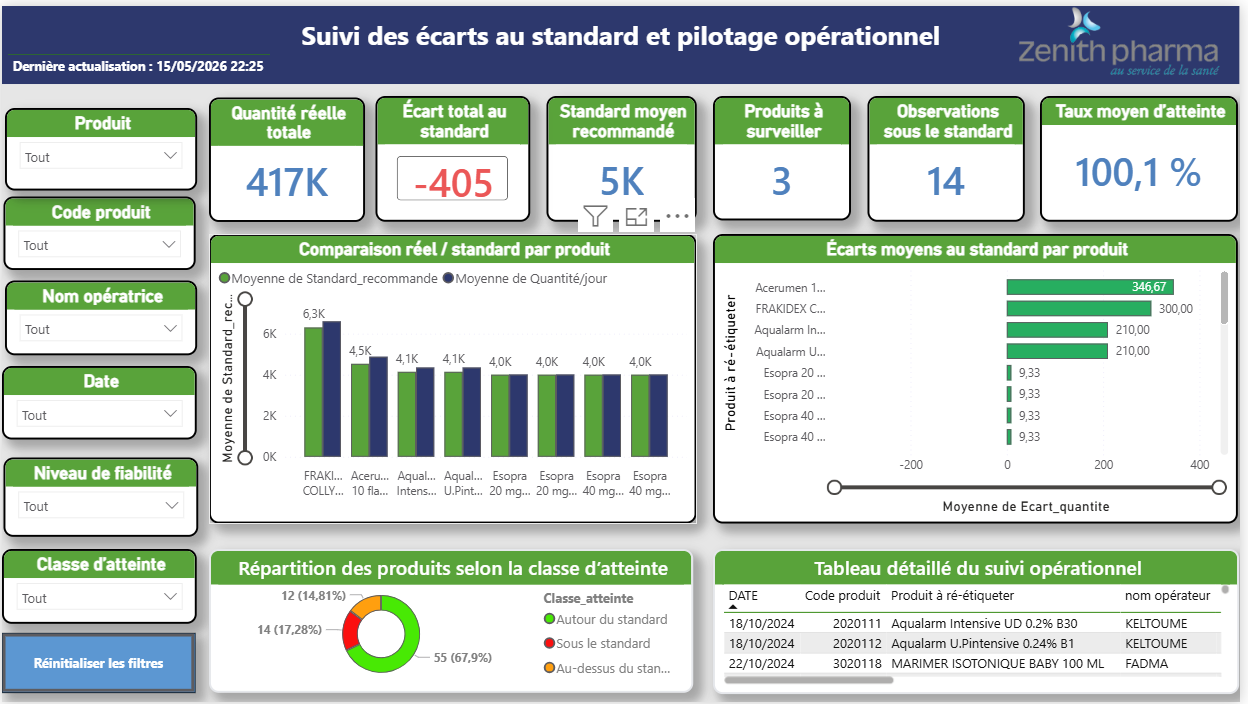

What the dashboard file says about the page in this screenshot:
{"tool":"powerbi","page":{"name":"Dashboard de pilotage global du service","canvas":[1280,720],"ordinal":3},"visuals":[{"type":"textbox","box":[0,0,1279.5,80.6],"z":0},{"type":"image","box":[1029.8,0,249.7,76],"z":1000},{"type":"cardVisual","title":"Standard moyen recommandé","fields":{"Data":["Base_enrichie.Standard_Moyen"]},"box":[563,93.1,155.1,130.3],"z":2000},{"type":"cardVisual","title":"Taux moyen d’atteinte","fields":{"Data":["Base_enrichie.Taux_Moyen_Atteinte_Pct"]},"box":[1073.2,93.1,204.7,130.3],"z":3000},{"type":"cardVisual","title":"Produits à surveiller","fields":{"Data":["Base_enrichie.Produits_A_Surveiller"]},"box":[735.1,93.1,142.7,128.7],"z":4000},{"type":"slicer","title":"Code produit","fields":{"Values":["Base_enrichie.Code produit"]},"box":[1.6,197,198.5,76],"z":5000},{"type":"slicer","title":"Produit","fields":{"Values":["Base_enrichie.Produit à ré-étiqueter"]},"box":[3.1,105.5,198.5,85.3],"z":6000},{"type":"slicer","title":"Nom opératrice","fields":{"Values":["Base_enrichie.nom opérateur"]},"box":[3.1,283.8,198.5,77.5],"z":7000},{"type":"slicer","title":"Date","fields":{"Values":["Base_enrichie.DATE"]},"box":[0,372.2,201.6,76],"z":8000},{"type":"slicer","title":"Niveau de fiabilité","fields":{"Values":["Base_enrichie.Niveau_fiabilite"]},"box":[1.6,466.8,201.6,82.2],"z":9000},{"type":"slicer","title":"Classe d’atteinte","fields":{"Values":["Base_enrichie.Classe_atteinte"]},"box":[0,561.4,201.6,77.5],"z":10000},{"type":"actionButton","box":[0,648.3,200.1,62],"z":11000},{"type":"cardVisual","title":"Quantité réelle totale","fields":{"Data":["Base_enrichie.Quantite_Reelle_Totale"]},"box":[214,94.6,161.3,128.7],"z":12000},{"type":"cardVisual","title":"Écart total au standard","fields":{"Data":["Base_enrichie.Ecart_Total"]},"box":[386.2,93.1,159.7,130.3],"z":13000},{"type":"cardVisual","title":"Observations sous le standard","fields":{"Data":["Base_enrichie.Obs_Sous_Standard"]},"box":[894.9,93.1,162.8,130.3],"z":14000},{"type":"clusteredColumnChart","title":"Comparaison réel / standard par produit","fields":{"Category":["Base_enrichie.Produit à ré-étiqueter"],"Y":["Avg(Base_enrichie.Standard_recommande)","Avg(Base_enrichie.Quantité/jour)"]},"box":[214,235.7,504,299.3],"z":15000},{"type":"clusteredBarChart","title":"Écarts moyens au standard par produit","fields":{"Category":["Base_enrichie.Produit à ré-étiqueter"],"Y":["Avg(Base_enrichie.Ecart_quantite)"]},"box":[735.1,235.7,542.8,299.3],"z":16000},{"type":"donutChart","title":"Répartition des produits selon la classe d’atteinte","fields":{"Category":["Base_enrichie.Classe_atteinte"],"Y":["CountNonNull(Base_enrichie.Code produit)"]},"box":[214,561.4,500.9,148.9],"z":17000},{"type":"tableEx","title":"Tableau détaillé du suivi opérationnel","fields":{"Values":["Base_enrichie.DATE","Base_enrichie.Code produit","Base_enrichie.Produit à ré-étiqueter","Base_enrichie.nom opérateur","Avg(Base_enrichie.Quantité/jour)","Avg(Base_enrichie.Standard_recommande)","Avg(Base_enrichie.Ecart_quantite)","Avg(Base_enrichie.Taux_atteinte_%)","Base_enrichie.Classe_atteinte","Base_enrichie.Niveau_fiabilite"]},"box":[735,561,544,150],"z":18000},{"type":"tableEx","fields":{"Values":["Base_enrichie.Texte_Mise_A_Jour"]},"box":[0,17.1,294.7,63.6],"z":19000}]}

Visuals, with their boxes in screenshot pixels (x1, y1, x2, y2), scaled from the page's 1280x720 canvas onto the 1248x704 screenshot:
textbox: {"x1": 0, "y1": 0, "x2": 1247, "y2": 79}
image: {"x1": 1004, "y1": 0, "x2": 1247, "y2": 74}
"Standard moyen recommandé" cardVisual: {"x1": 549, "y1": 91, "x2": 700, "y2": 218}
"Taux moyen d’atteinte" cardVisual: {"x1": 1046, "y1": 91, "x2": 1246, "y2": 218}
"Produits à surveiller" cardVisual: {"x1": 717, "y1": 91, "x2": 856, "y2": 217}
"Code produit" slicer: {"x1": 2, "y1": 193, "x2": 195, "y2": 267}
"Produit" slicer: {"x1": 3, "y1": 103, "x2": 197, "y2": 187}
"Nom opératrice" slicer: {"x1": 3, "y1": 277, "x2": 197, "y2": 353}
"Date" slicer: {"x1": 0, "y1": 364, "x2": 197, "y2": 438}
"Niveau de fiabilité" slicer: {"x1": 2, "y1": 456, "x2": 198, "y2": 537}
"Classe d’atteinte" slicer: {"x1": 0, "y1": 549, "x2": 197, "y2": 625}
actionButton: {"x1": 0, "y1": 634, "x2": 195, "y2": 695}
"Quantité réelle totale" cardVisual: {"x1": 209, "y1": 92, "x2": 366, "y2": 218}
"Écart total au standard" cardVisual: {"x1": 377, "y1": 91, "x2": 532, "y2": 218}
"Observations sous le standard" cardVisual: {"x1": 873, "y1": 91, "x2": 1031, "y2": 218}
"Comparaison réel / standard par produit" clusteredColumnChart: {"x1": 209, "y1": 230, "x2": 700, "y2": 523}
"Écarts moyens au standard par produit" clusteredBarChart: {"x1": 717, "y1": 230, "x2": 1246, "y2": 523}
"Répartition des produits selon la classe d’atteinte" donutChart: {"x1": 209, "y1": 549, "x2": 697, "y2": 695}
"Tableau détaillé du suivi opérationnel" tableEx: {"x1": 717, "y1": 549, "x2": 1247, "y2": 695}
tableEx - Base_enrichie.Texte_Mise_A_Jour: {"x1": 0, "y1": 17, "x2": 287, "y2": 79}
